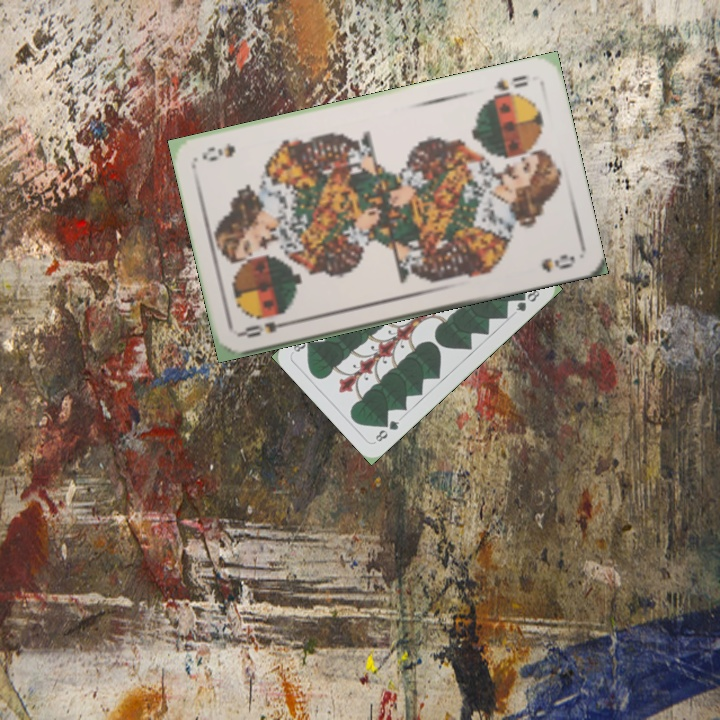G8: (371, 416, 402, 444)
SO: (237, 316, 295, 340), (488, 71, 531, 100)
